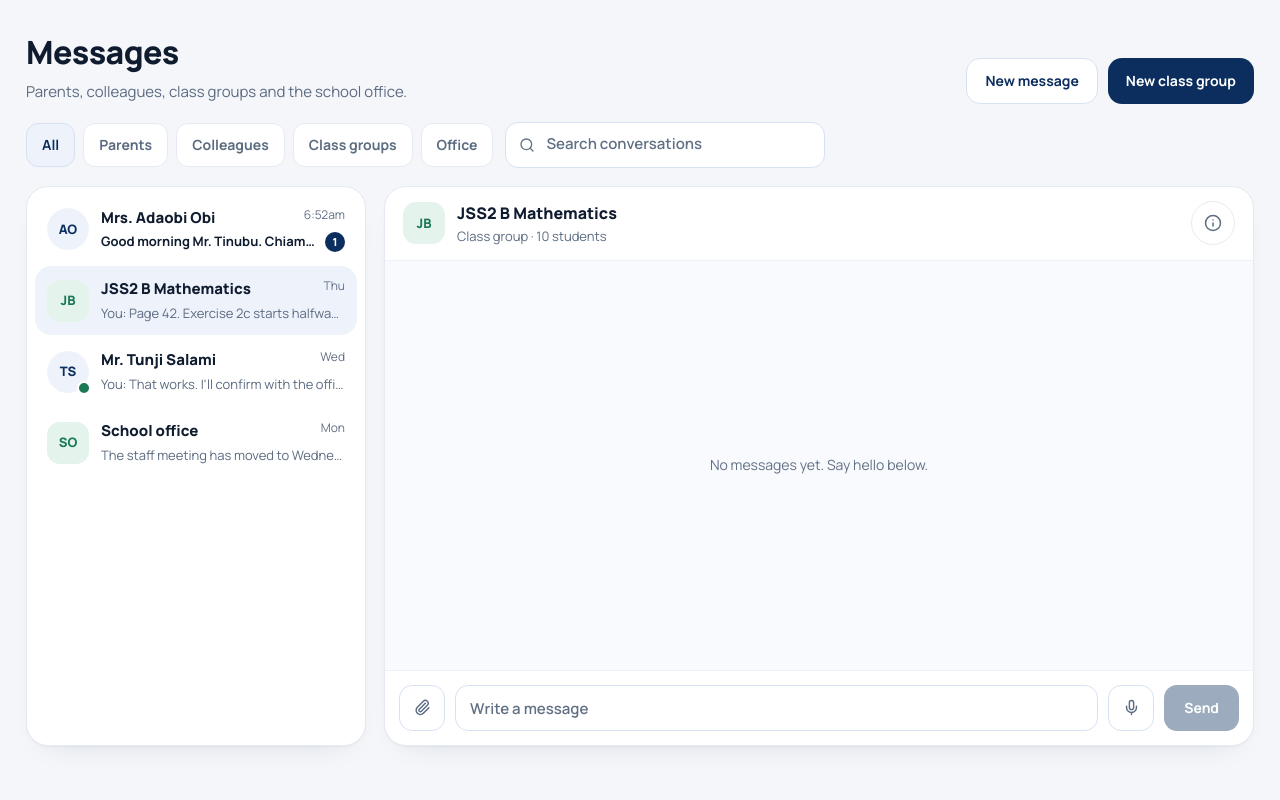
Test: the info modal › explains a 403 and hides the editor
The image size is (1280, 800).
Click the button named "Conversation info": (1213, 223) x1=1191 y1=201 x2=1235 y2=245
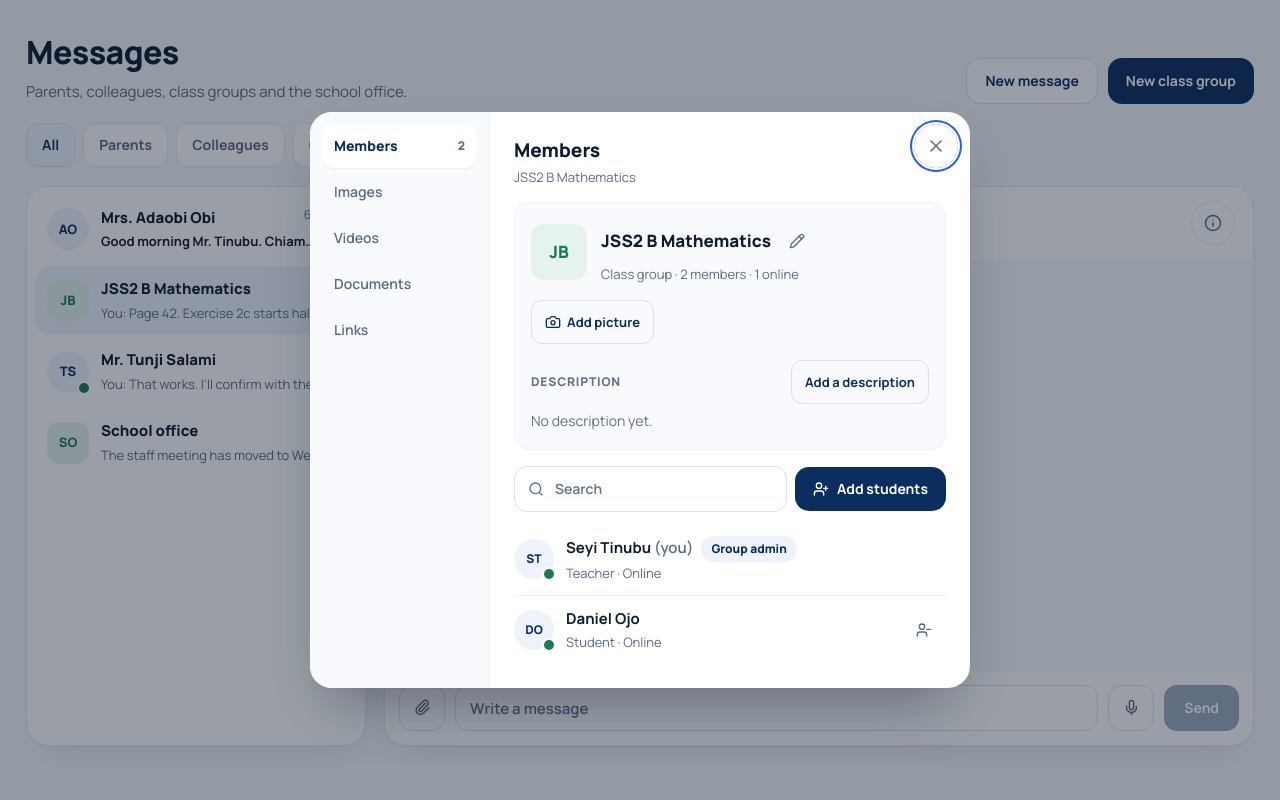
Click the button named "Edit the group name": (797, 241) x1=775 y1=219 x2=819 y2=263
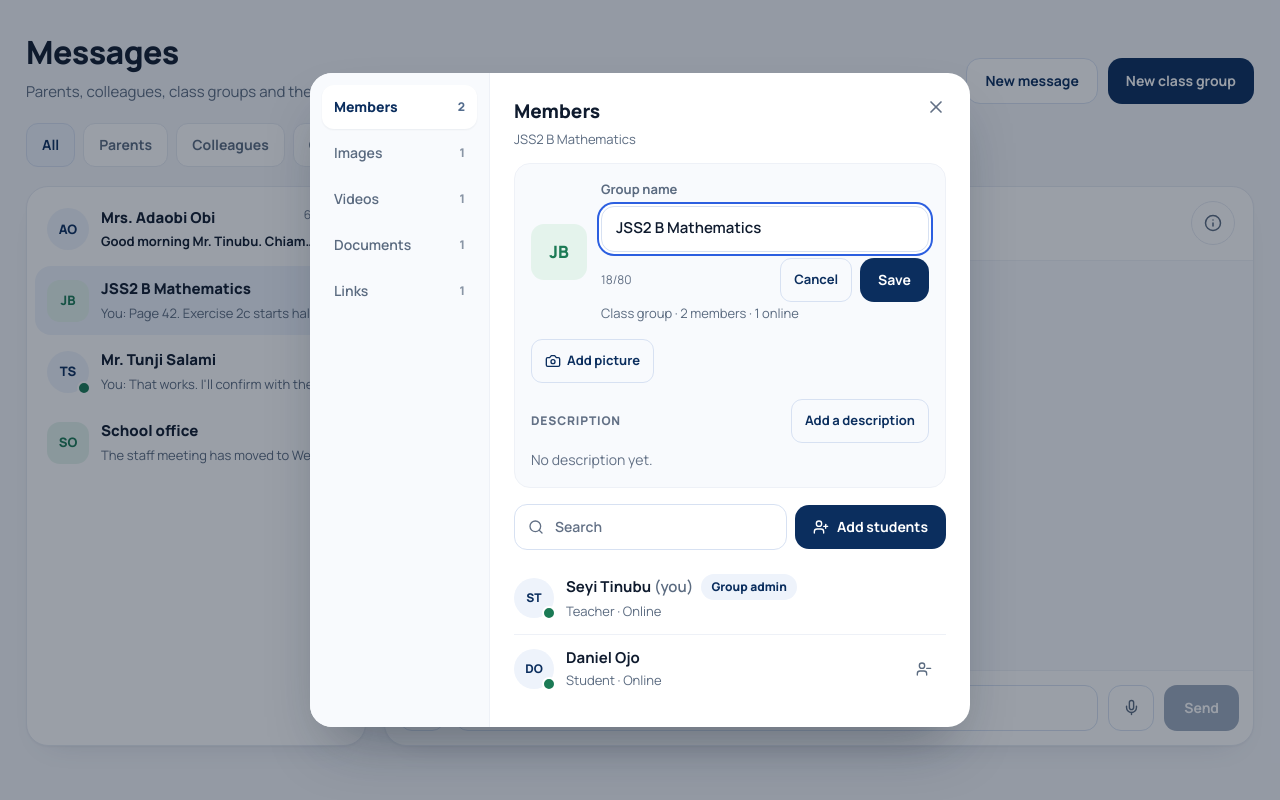
Replace the text in the field labelled "Group name" with "JSS2 B Maths": (765, 228) x1=601 y1=206 x2=929 y2=252
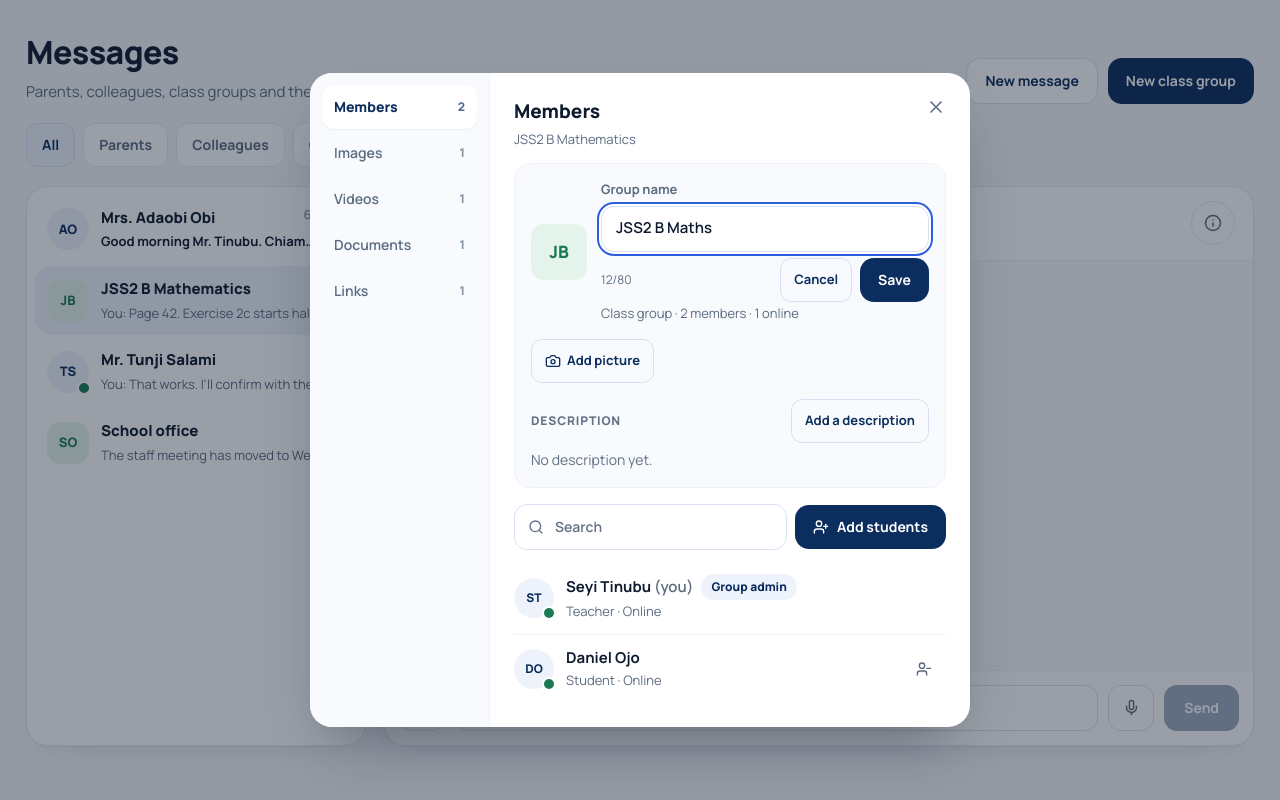
Click the button "Save": (895, 280) x1=860 y1=258 x2=929 y2=302
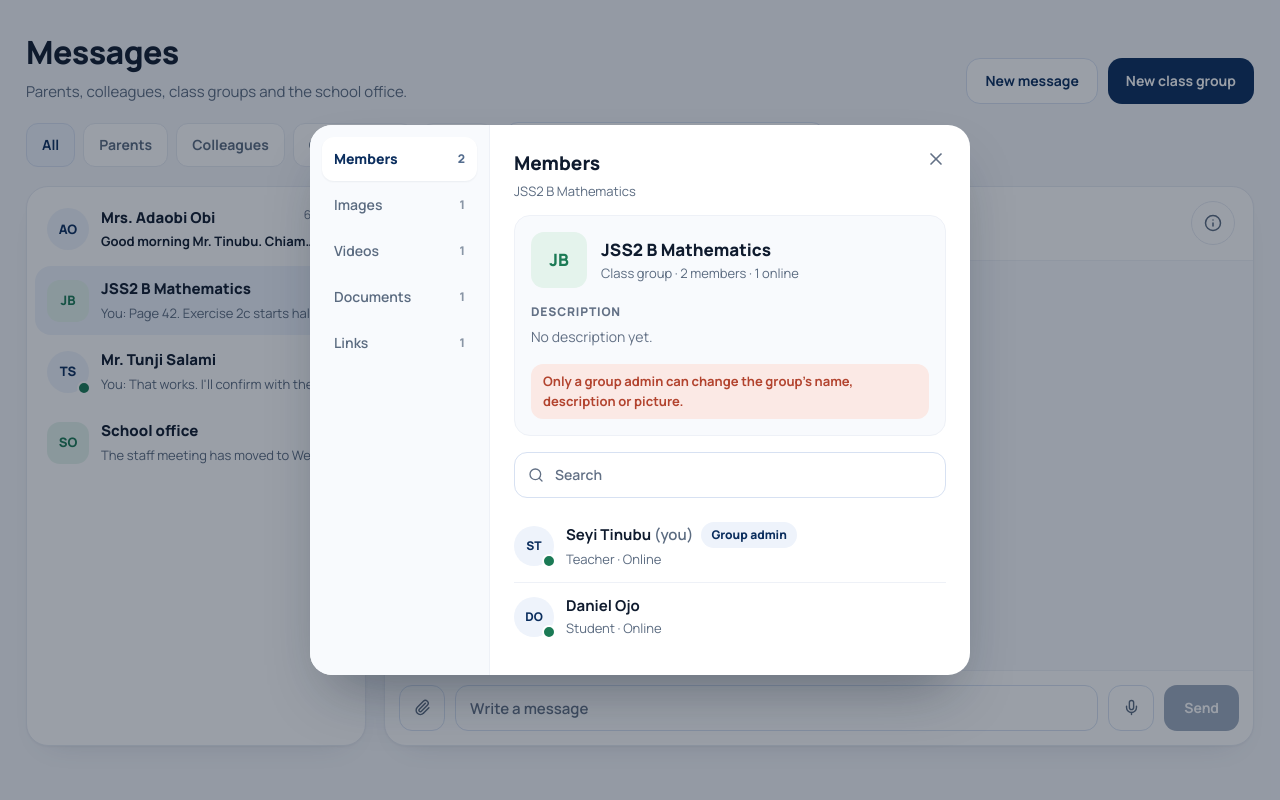
Now the message reads "Only a group admin can change the group's name, description or picture.", box x1=543 y1=372 x2=853 y2=410
